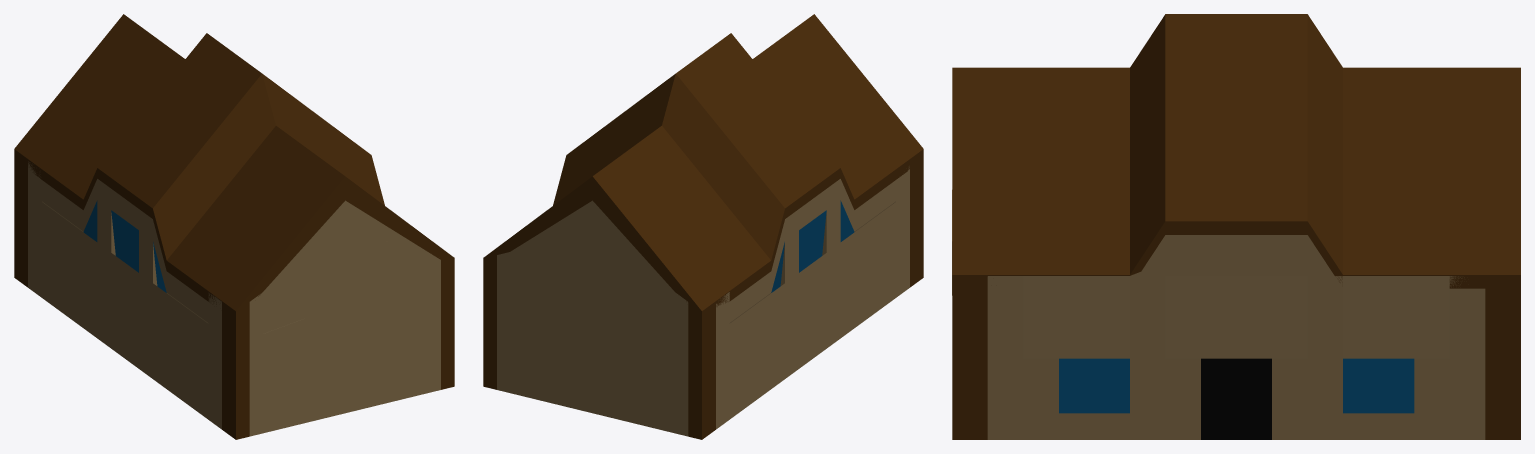
Rendered from house2.fbx.
3 views of the same model, side by side, from view 1: azimuth 30°, elevation 25°; view 2: azimuth 150°, elevation 25°; view 3: azimuth 270°, elevation 25° (orthographic). The views are drawn at different scales.
Visible parts, largest first — view 1: Cube; view 2: Cube; view 3: Cube.
Boxes of the visible parts, bbox=[...] form: Cube: bbox=[14, 14, 454, 439]; Cube: bbox=[483, 14, 923, 439]; Cube: bbox=[952, 14, 1520, 439].
Size of the model in its own units: 2792 by 3389 by 4885.
